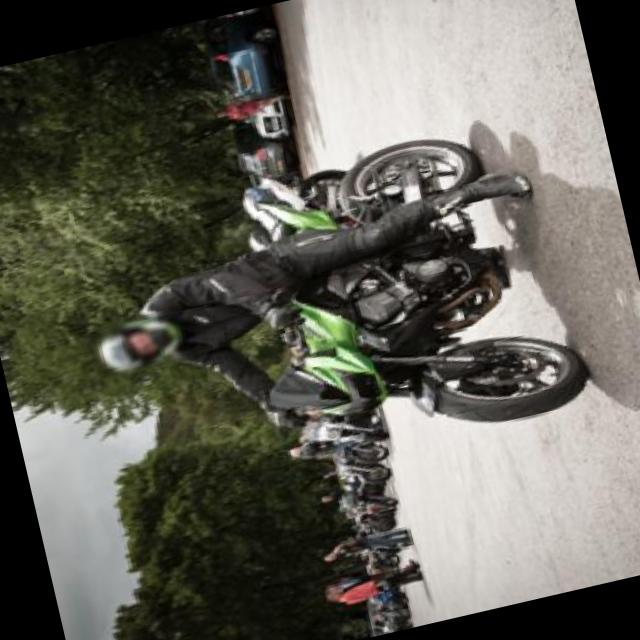With Helmet: (88, 303, 192, 379)
